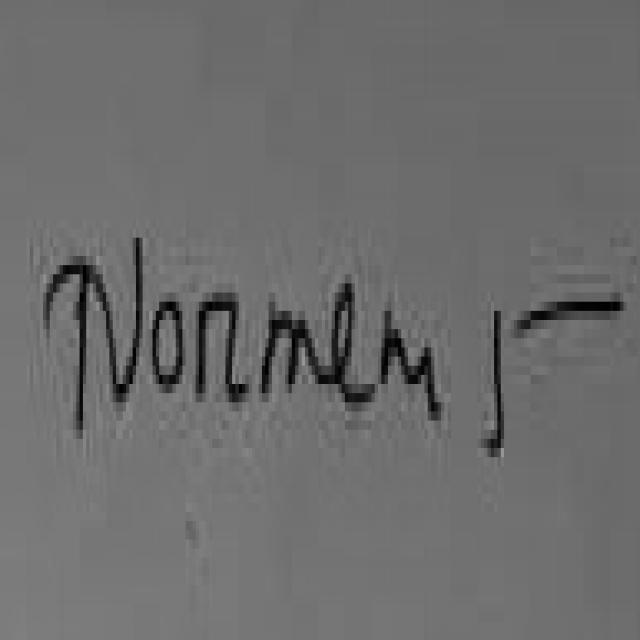5: (482, 286, 619, 465)
N: (46, 238, 143, 425)
e: (335, 283, 375, 402)
m: (262, 302, 322, 393)
n: (385, 311, 411, 384)
o: (153, 302, 182, 393)
r: (199, 302, 249, 402)
s: (408, 347, 441, 421)
